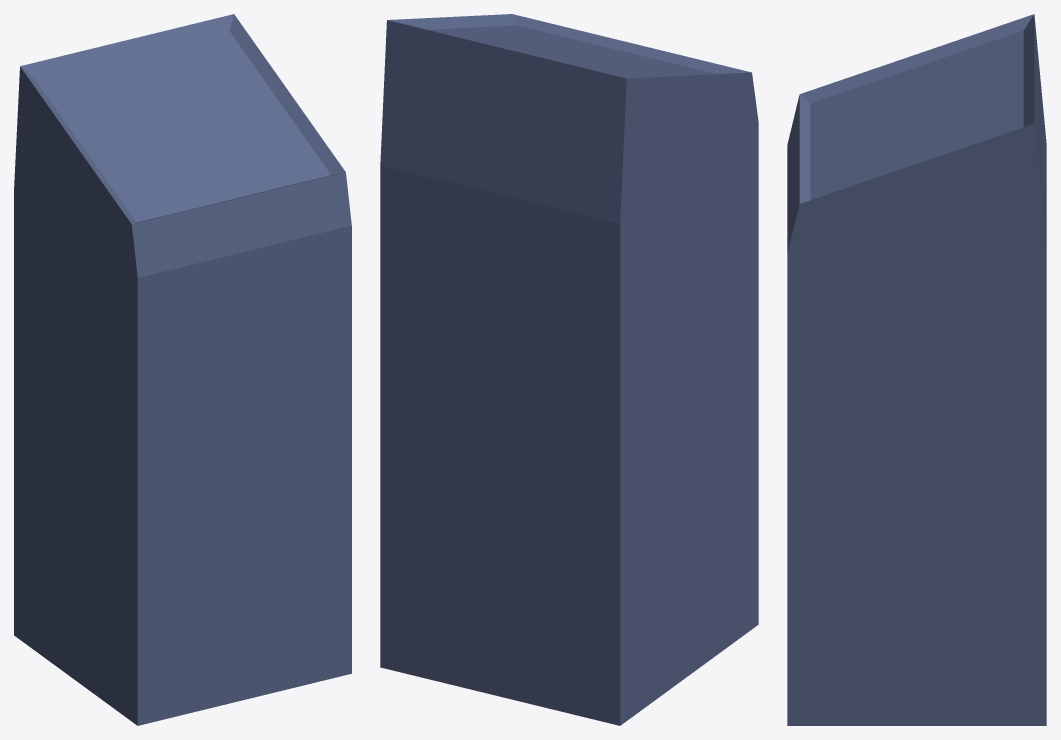
File: stand.glb
3 views of the same model, side by side, from view 1: azimuth 30°, elevation 25°; view 2: azimuth 150°, elevation 25°; view 3: azimuth 270°, elevation 25° (orthographic). The views are drawn at different scales.
Parts seen in each view (by area): view 1: Cube; view 2: Cube; view 3: Cube.
Boxes of the visible parts, box(x1,y1,x2,y2) form: Cube: box(14, 14, 351, 725); Cube: box(380, 14, 758, 725); Cube: box(787, 14, 1046, 725).
Bounding box in the file's own units: 0.5 × 1.28 × 0.5.
